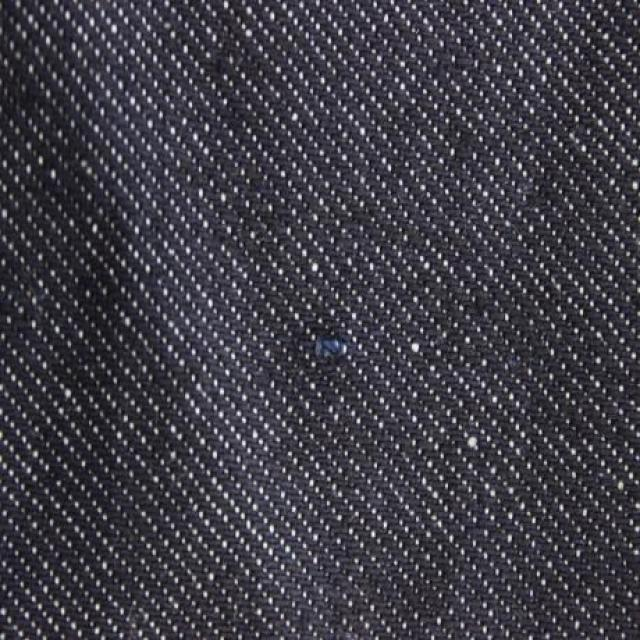Thread_other: (270, 280, 396, 400)
